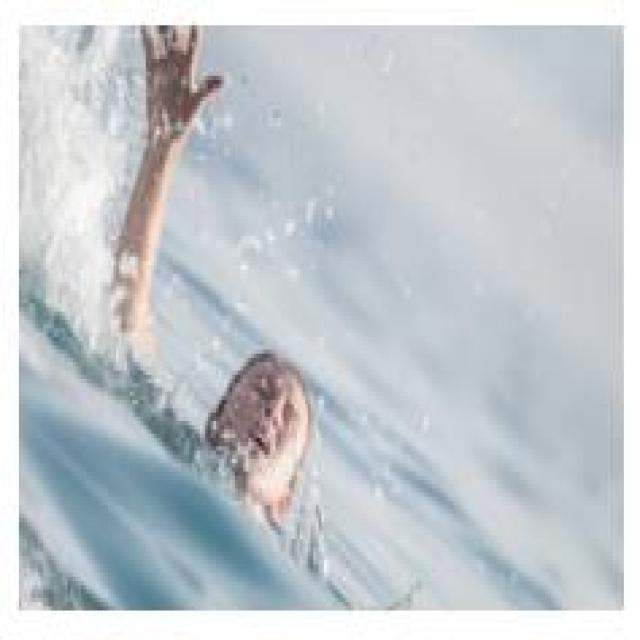Out of Water: (105, 23, 314, 520)
